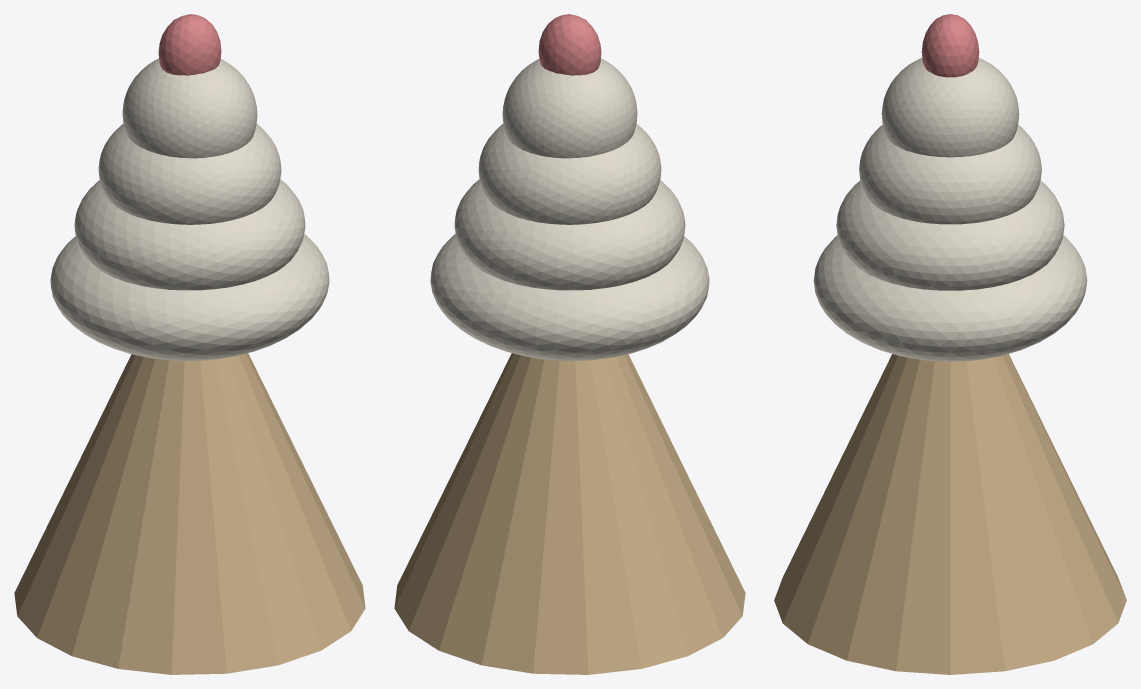
File: kem_ocque.glb
3 views of the same model, side by side, from view 1: azimuth 30°, elevation 25°; view 2: azimuth 150°, elevation 25°; view 3: azimuth 270°, elevation 25° (orthographic).
Visible parts, largest first — view 1: obj_0000, obj_0001, obj_0002, obj_0003, obj_0004, obj_0005; view 2: obj_0000, obj_0001, obj_0002, obj_0003, obj_0004, obj_0005; view 3: obj_0000, obj_0001, obj_0002, obj_0003, obj_0004, obj_0005.
Part boxes in pixels (box(x1,y1,x2,y2)): obj_0000: box(14, 353, 365, 674); obj_0001: box(50, 234, 329, 360); obj_0002: box(74, 179, 305, 290); obj_0003: box(98, 123, 281, 224); obj_0004: box(122, 58, 257, 158); obj_0005: box(158, 14, 221, 75); obj_0000: box(394, 353, 745, 674); obj_0001: box(430, 234, 709, 360); obj_0002: box(454, 179, 685, 290); obj_0003: box(478, 123, 661, 224); obj_0004: box(502, 58, 637, 158); obj_0005: box(538, 14, 601, 75); obj_0000: box(774, 354, 1126, 674); obj_0001: box(813, 235, 1087, 361); obj_0002: box(836, 180, 1064, 290); obj_0003: box(859, 124, 1041, 224); obj_0004: box(881, 58, 1019, 157); obj_0005: box(921, 14, 979, 77).
Bounding box in the file's own units: 0.98 × 1.79 × 0.98.
